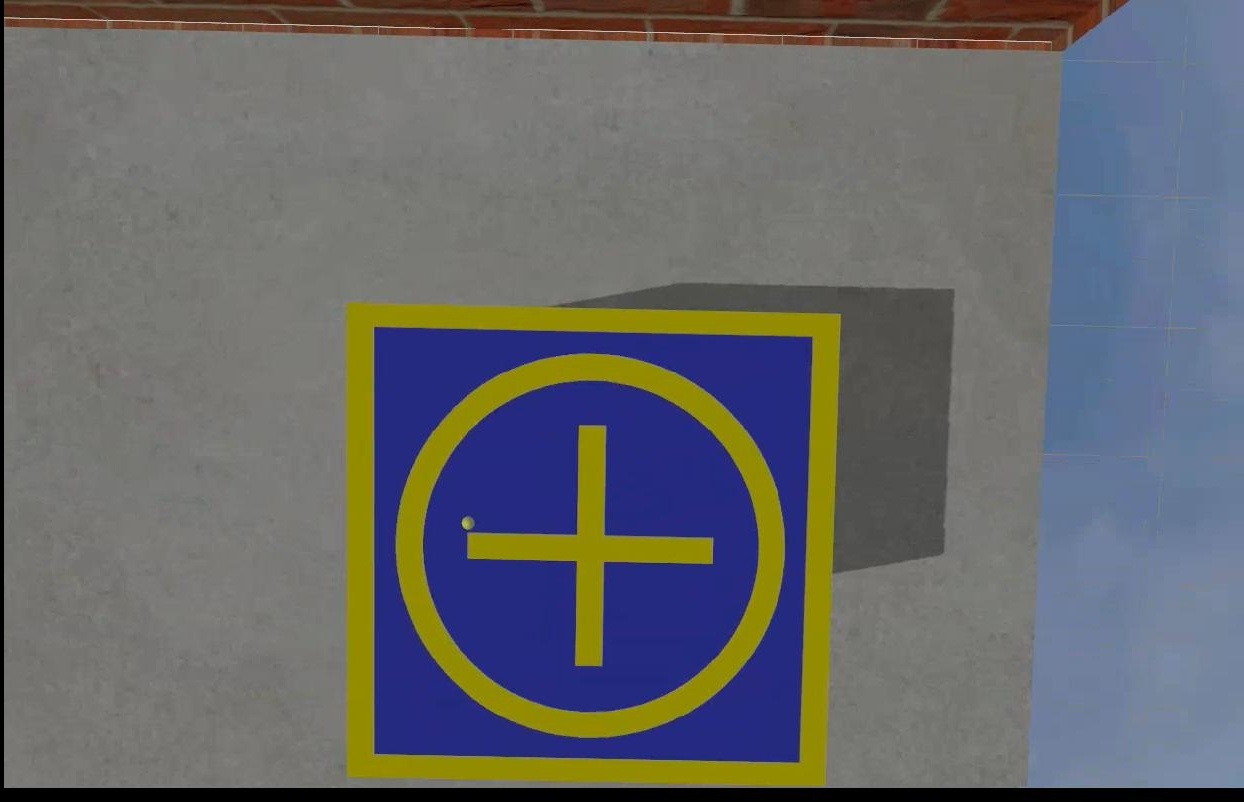small_base: (340, 304, 842, 787)
